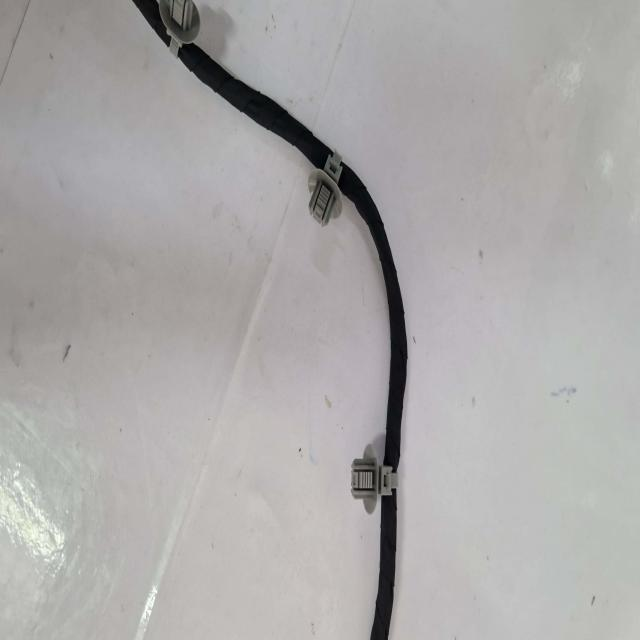Clip: (351, 444, 398, 522), (308, 152, 342, 227), (159, 0, 200, 58)
MHEV_N11_Cable: (339, 163, 408, 470), (179, 42, 331, 169), (371, 490, 396, 640), (134, 0, 170, 45)
